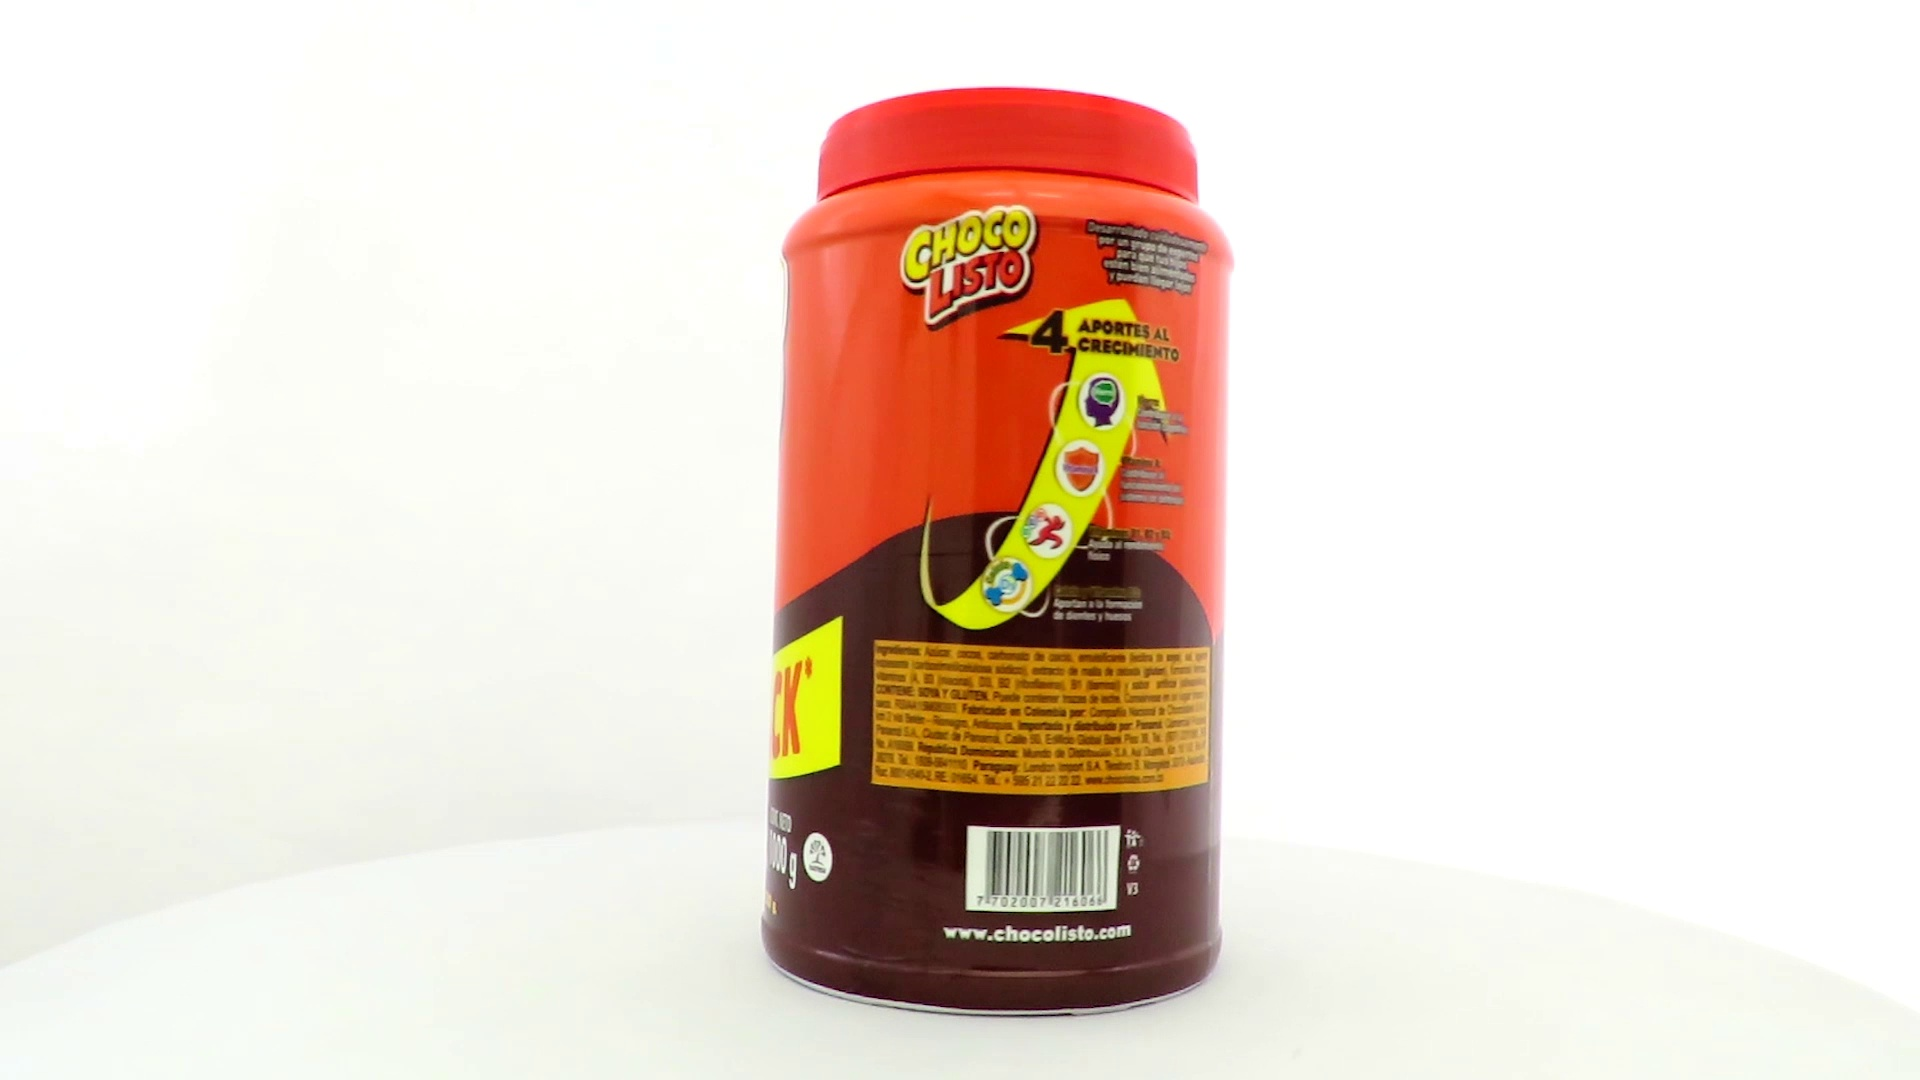COL0170103TRR00100: (756, 82, 1229, 1025)
